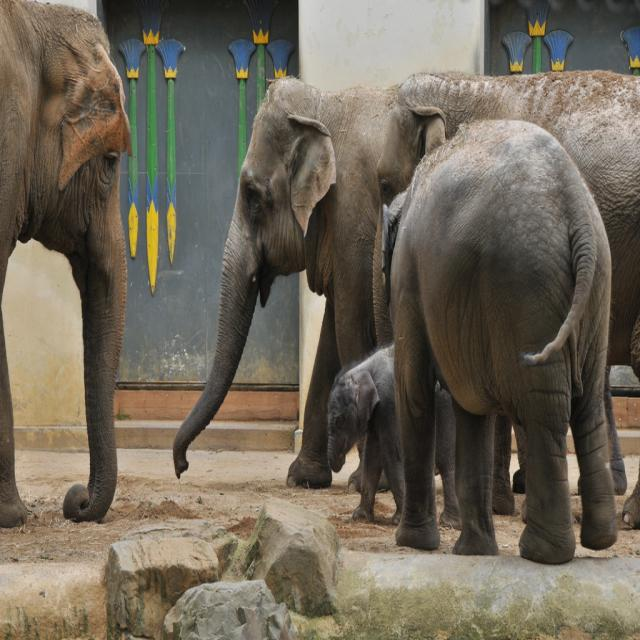elephant: (330, 67, 639, 528), (168, 66, 490, 482), (0, 0, 138, 527)
